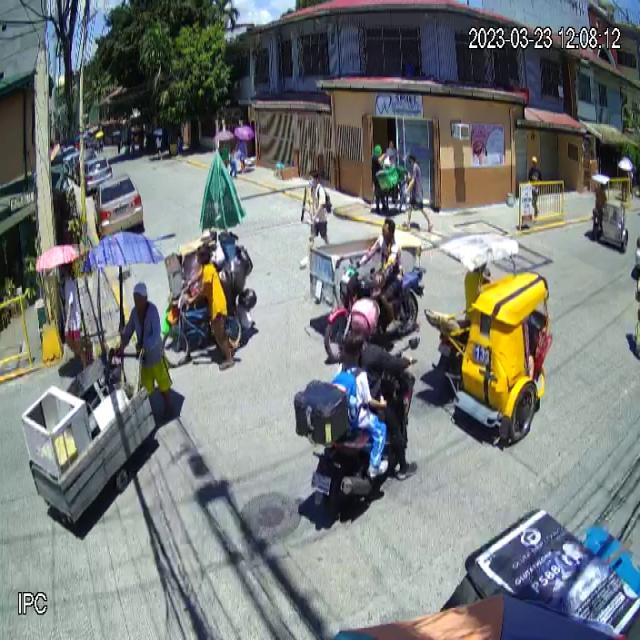Tricycle: (423, 228, 555, 446)
